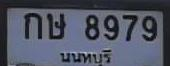7: (122, 14, 137, 40)
8: (84, 14, 98, 39)
9: (141, 15, 156, 40), (103, 14, 118, 39)
A01: (23, 12, 41, 38)
A39: (46, 12, 65, 39)
NBI: (59, 48, 113, 65)
